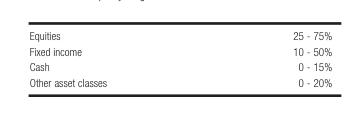table: (28, 28, 331, 88)
table column: (28, 28, 199, 88), (199, 28, 331, 88)
table row: (28, 58, 331, 74), (28, 28, 331, 43), (28, 43, 331, 58), (28, 74, 331, 88)
